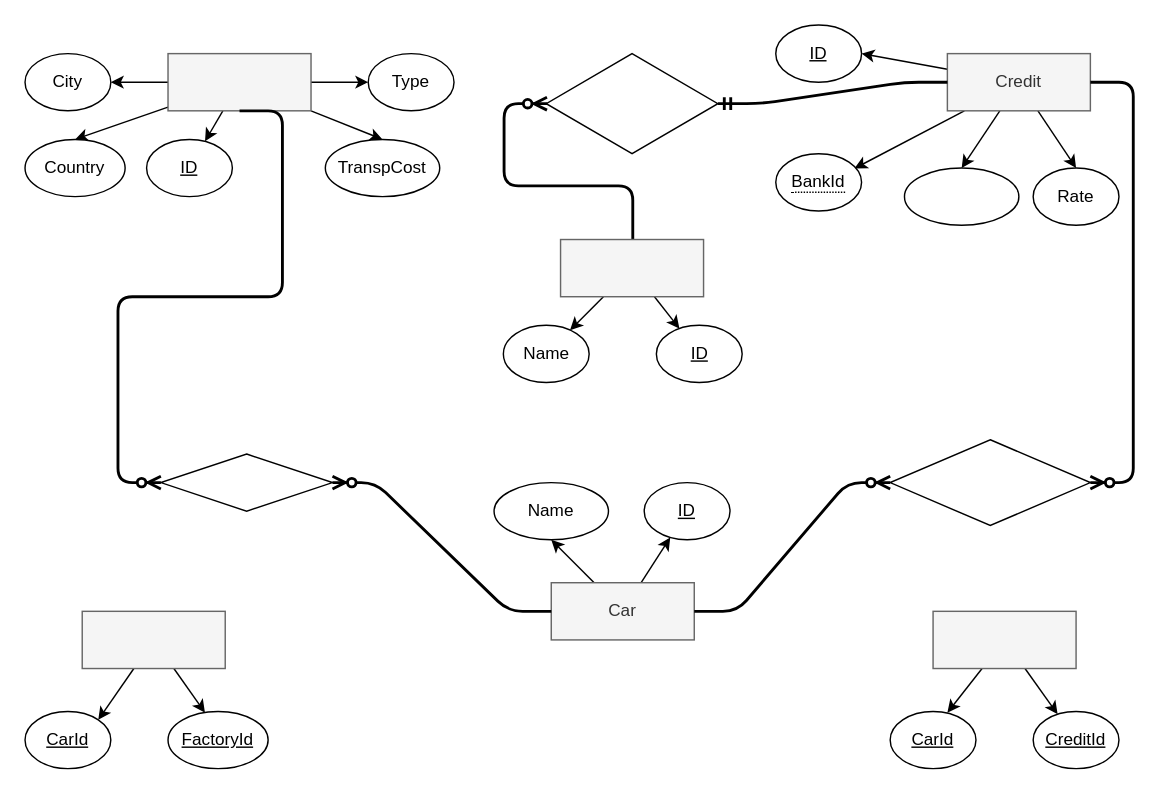
Some shapes in this 1171 by 794 pixel diagram are drawn without their labels. Each missing label, with the centre of its shape:
Bank: the point at 631,267
CarsCredits: the point at 1004,639
CarsFactories: the point at 153,639
Expiration: the point at 961,196
Factory: the point at 239,81
Владеет: the point at 631,103
Производит: the point at 245,482
Распространяется на: the point at 989,482
